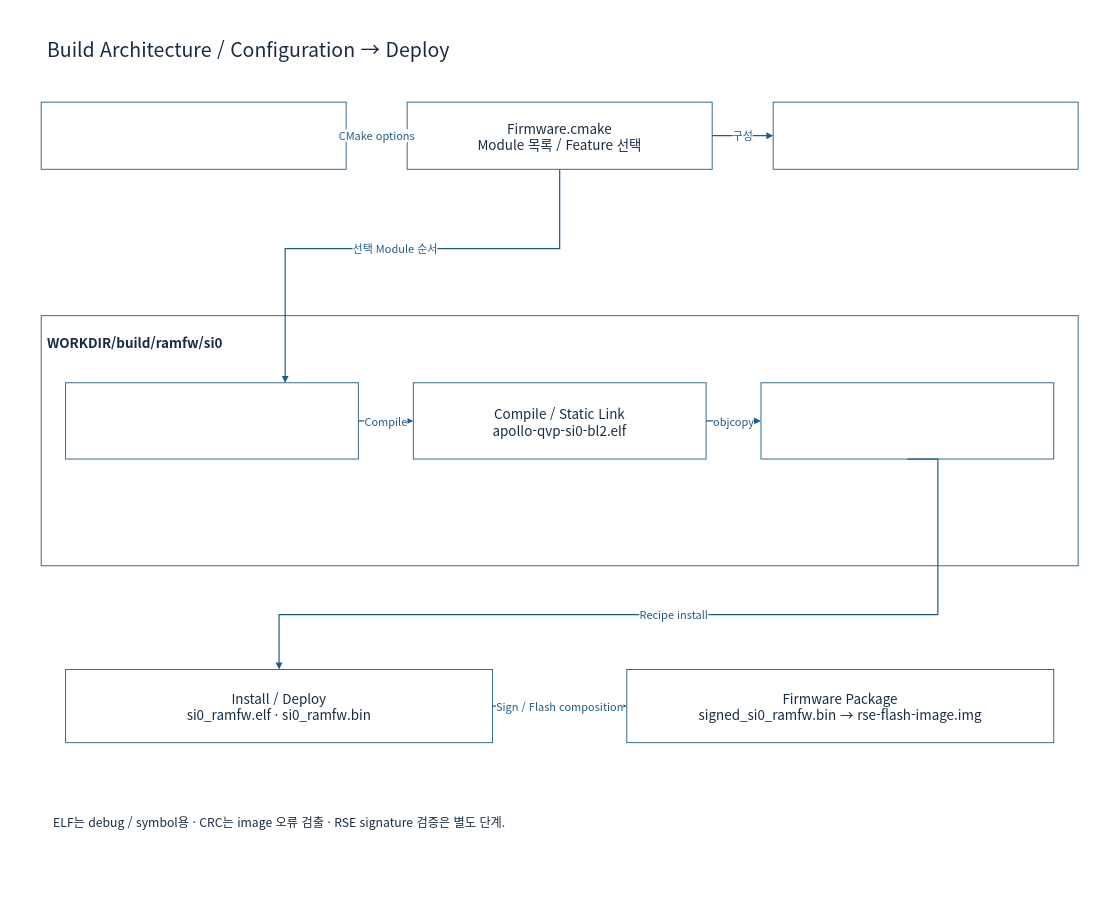
Some shapes in this 1119 by 899 pixel diagram are drawn without their labels. The centre of each missing label's shape, as x and y in pixels:
config_*.c Element · API · HW Resource: (x=925, y=135)
Generated Module Index / Table fwk_module_idx.h · fwk_module_list.c: (x=212, y=420)
objcopy / Symbol table / CRC apollo-qvp-si0-bl2.bin: (x=907, y=420)
Yocto / MACHINE=apollo-qvp: (x=193, y=135)
